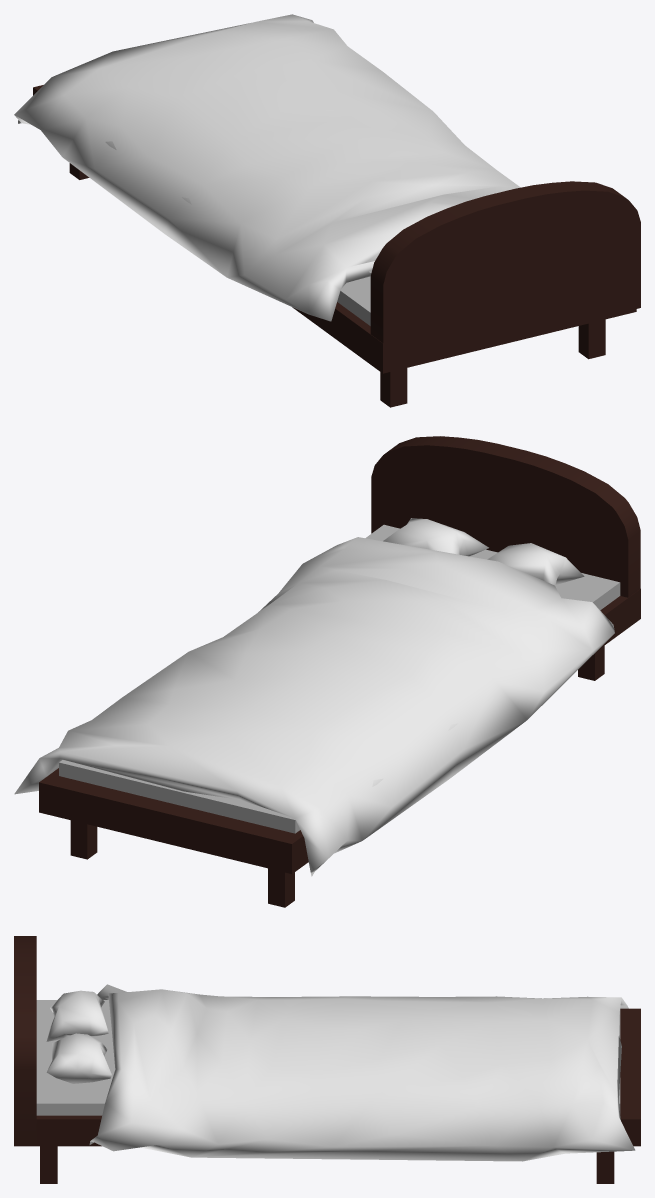
Rendered from bed_v2.fbx.
The picture shows the model from 3 angles, top to bottom: view 1: azimuth 30°, elevation 25°; view 2: azimuth 150°, elevation 25°; view 3: azimuth 270°, elevation 25°; orthographic projection. The views are drawn at different scales.
Parts seen in each view (by area): view 1: bed_v2; view 2: bed_v2; view 3: bed_v2.
Part boxes in pixels (x1,y1,x2,y2): bed_v2: (14,14,640,407); bed_v2: (14,436,640,907); bed_v2: (14,936,640,1183).
Size of the model in its own units: 251 by 147 by 490.
